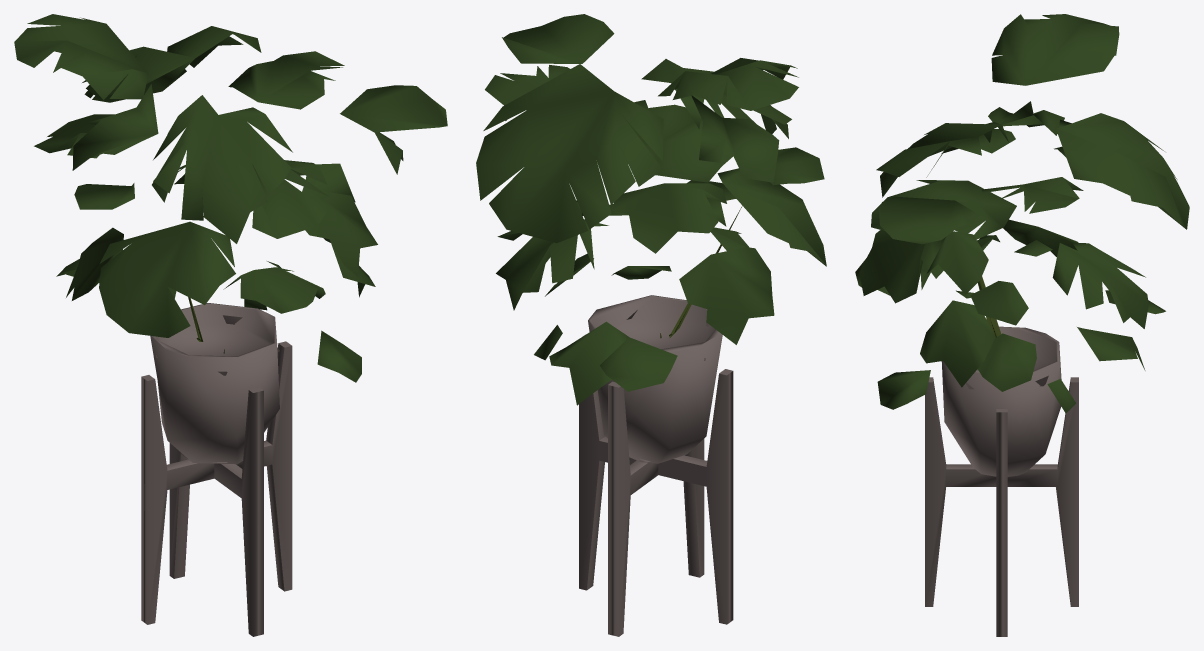
The model's file is monstera.lod0.glb.
3 views of the same model, side by side, from view 1: azimuth 30°, elevation 25°; view 2: azimuth 150°, elevation 25°; view 3: azimuth 270°, elevation 25° (orthographic). The views are drawn at different scales.
Visible parts, largest first — view 1: root_HP_1_Mat.2_0; view 2: root_HP_1_Mat.2_0; view 3: root_HP_1_Mat.2_0.
Part boxes in pixels (box(x1,y1,x2,y2)): root_HP_1_Mat.2_0: box(14, 14, 447, 636); root_HP_1_Mat.2_0: box(476, 14, 826, 636); root_HP_1_Mat.2_0: box(855, 14, 1189, 636).
Size of the model in its own units: 0.8938 by 1.4 by 0.8002.
